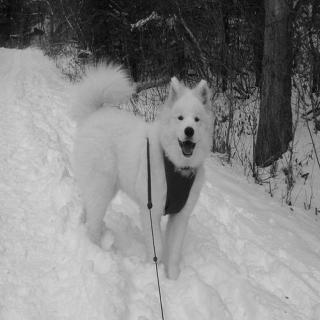dog: (158, 64, 218, 182)
nose: (182, 122, 197, 140)
